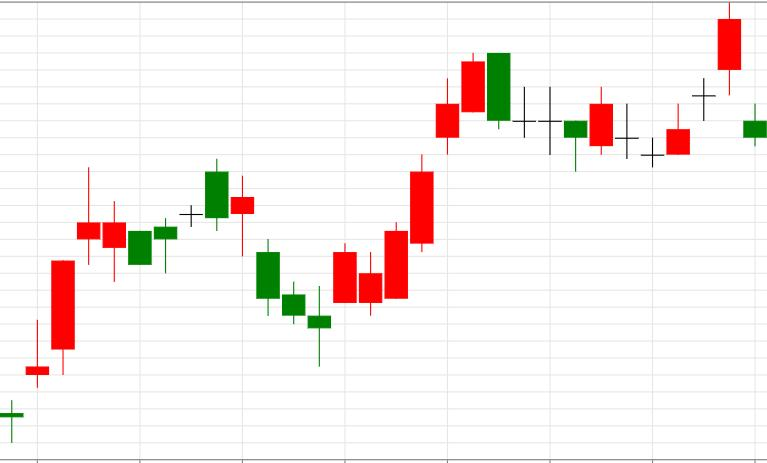bearish_engulfing_fall: (359, 53, 510, 315)
morning_star_rise: (205, 159, 357, 367)
